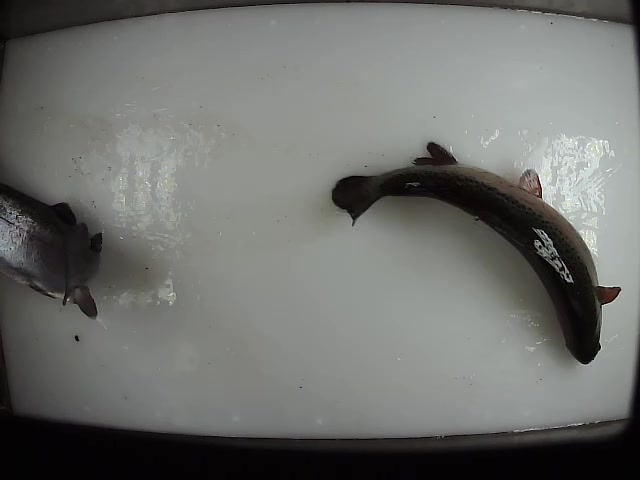fish: (329, 139, 622, 367)
